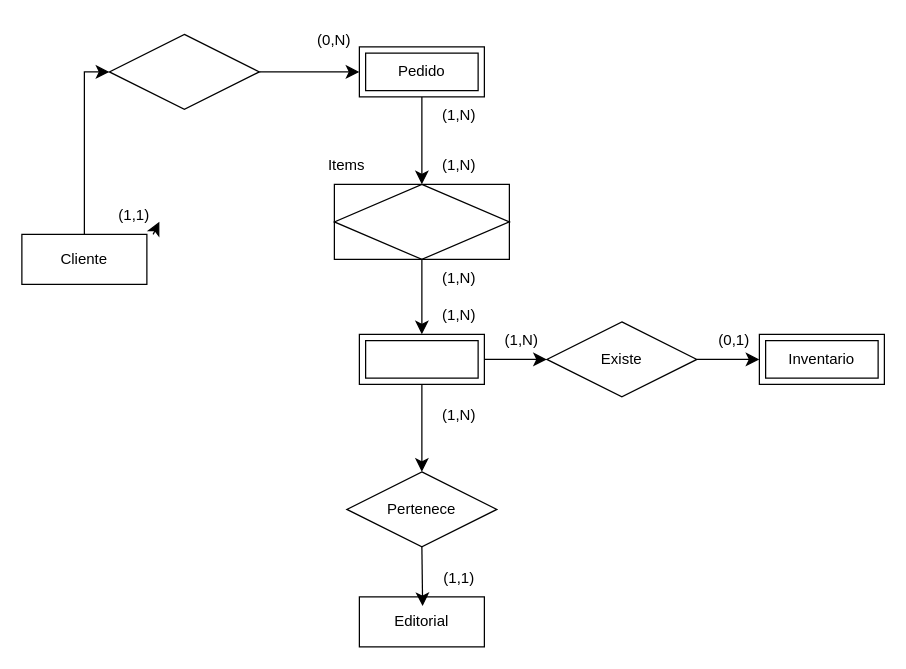
This 906x669 diagram has some shape labels left out. Here are the shapes that lost their labels. From the top down, the box of each, then its label:
(108, 33, 259, 109): Realiza
(333, 183, 509, 259): Contiene
(358, 333, 484, 384): Libros
